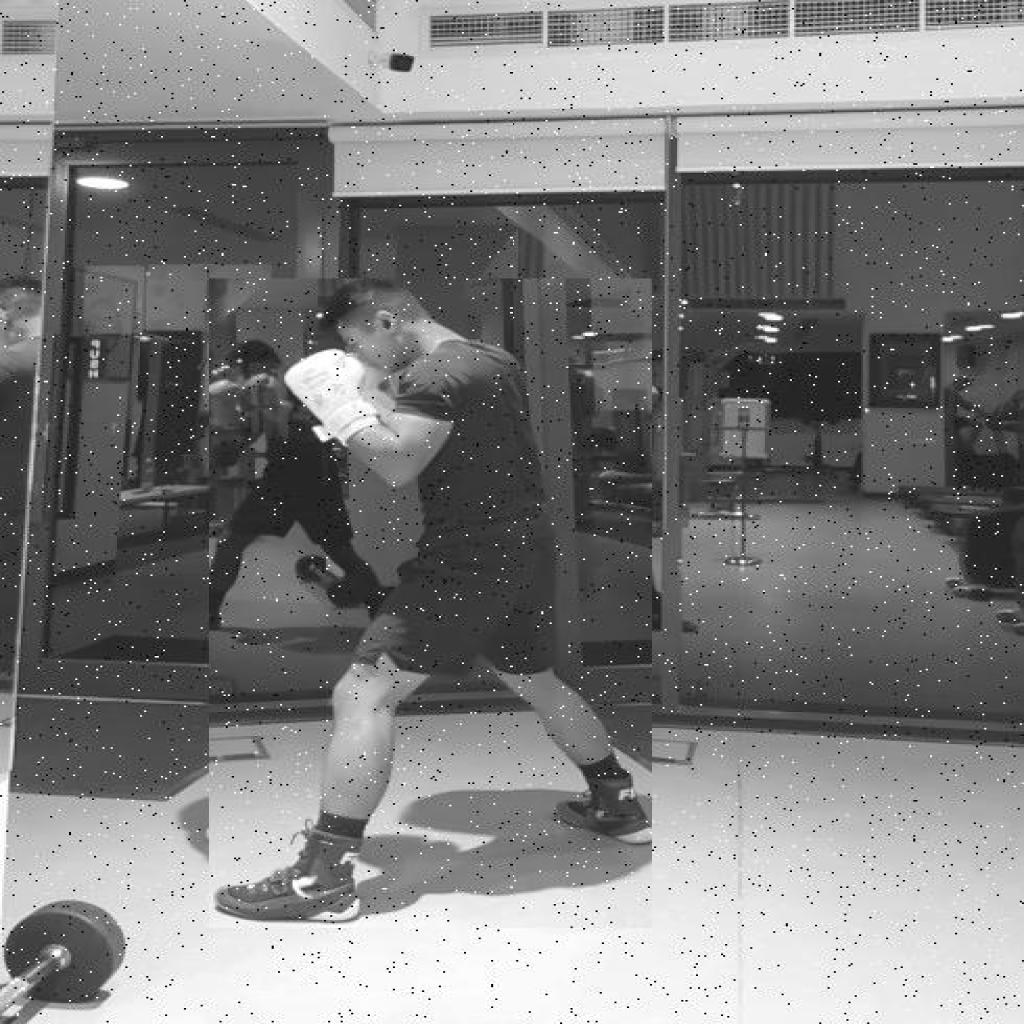no punch: (209, 278, 651, 928)
